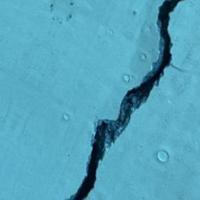crack: (55, 0, 195, 199)
